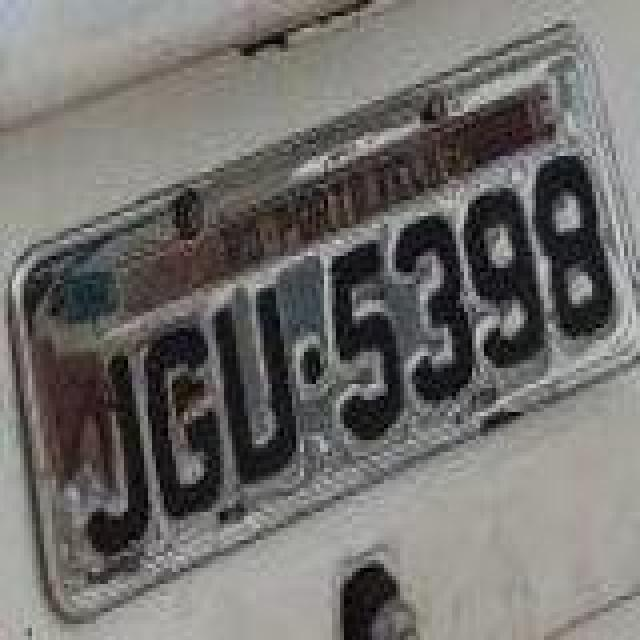3: (394, 210, 478, 406)
5: (326, 236, 410, 444)
8: (532, 156, 620, 340)
9: (460, 188, 548, 372)
G: (142, 324, 226, 524)
J: (84, 350, 156, 562)
U: (212, 284, 300, 484)
